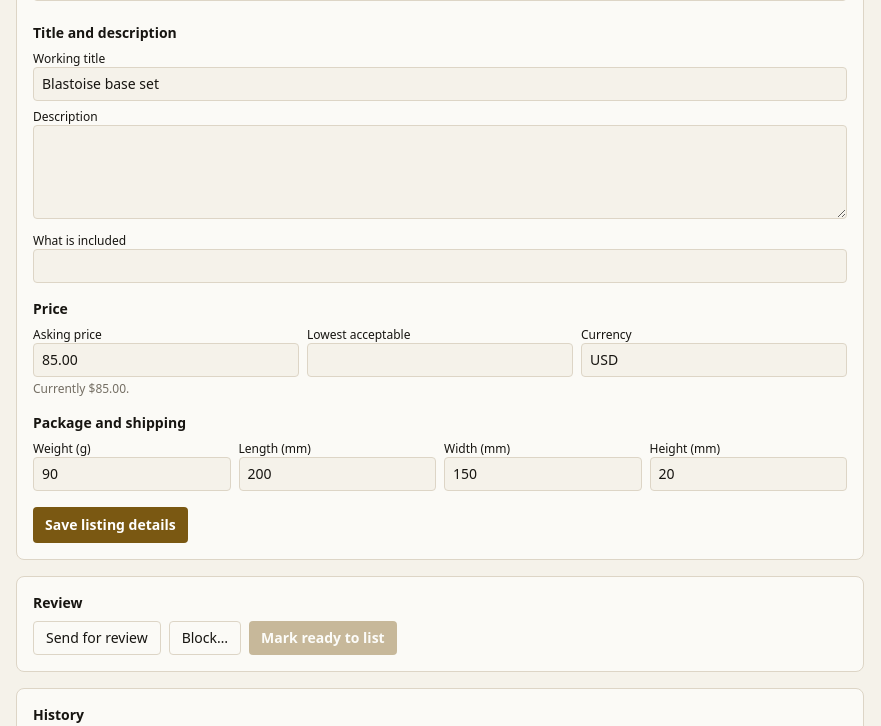
Test: listing prep detail › refuses an unreadable price rather than sending a guess
(page scrolled)
Replace the text in the field labelled "Asking price" with "about fifty" at (166, 360), box [33, 343, 299, 377]
(page scrolled)
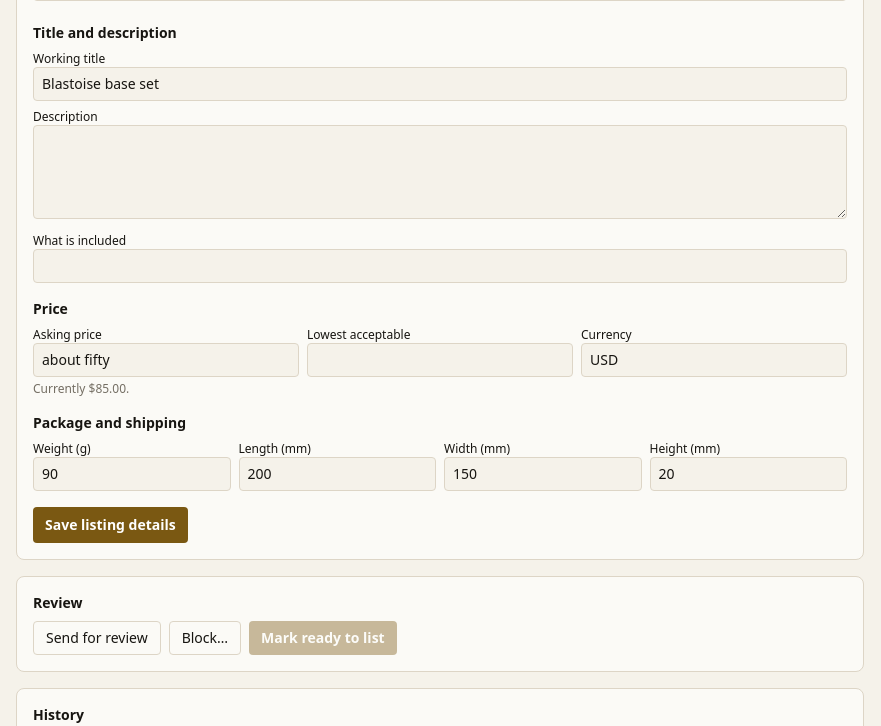
Click the button "Save listing details" at (110, 525), box [33, 507, 188, 543]
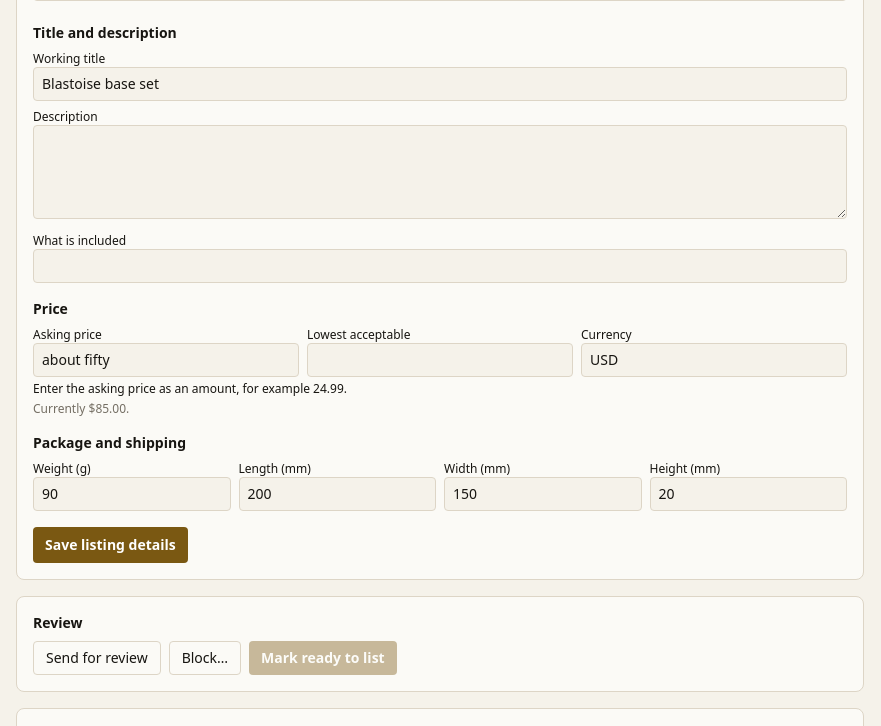
expect the text "Enter the asking price as an amount, for example 24.99." is shown: met, box [33, 380, 347, 397]
